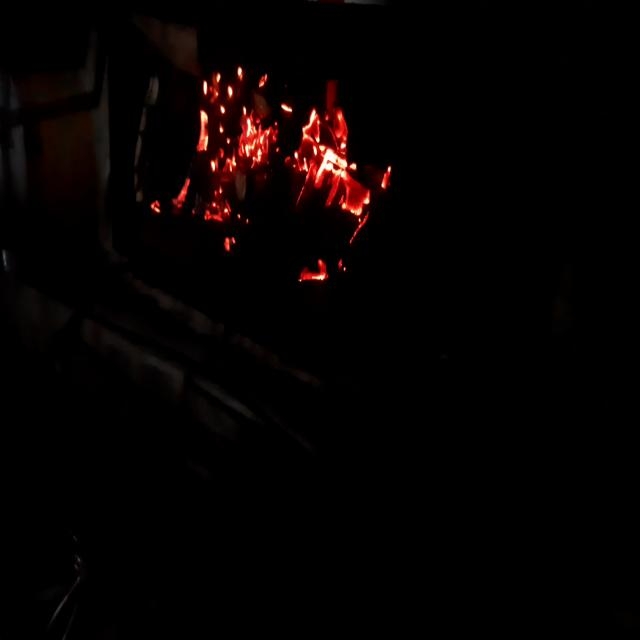Fire: (149, 43, 398, 303)
